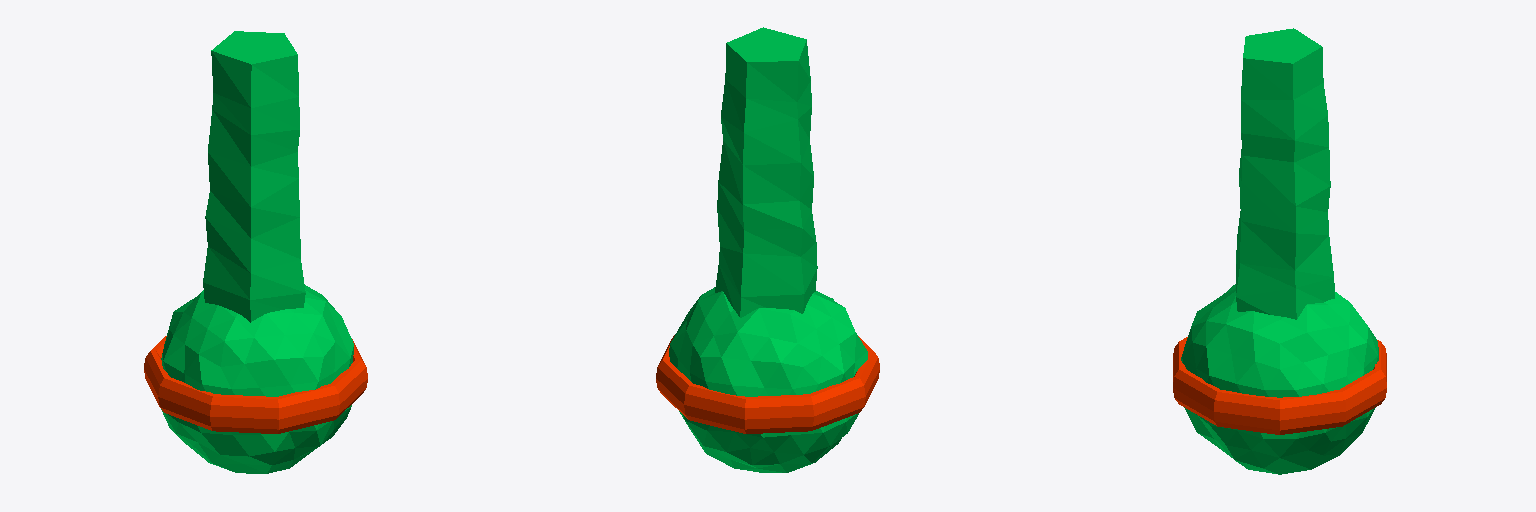
The model's file is stationv3.obj.
3 views of the same model, side by side, from view 1: azimuth 30°, elevation 25°; view 2: azimuth 150°, elevation 25°; view 3: azimuth 270°, elevation 25° (orthographic).
Parts seen in each view (by area): view 1: Station_v3; view 2: Station_v3; view 3: Station_v3.
Part boxes in pixels (x1,y1,x2,y2): Station_v3: (144,31,367,473); Station_v3: (656,27,879,472); Station_v3: (1173,28,1386,474).
Size of the model in its own units: 35 by 71.6 by 33.29.